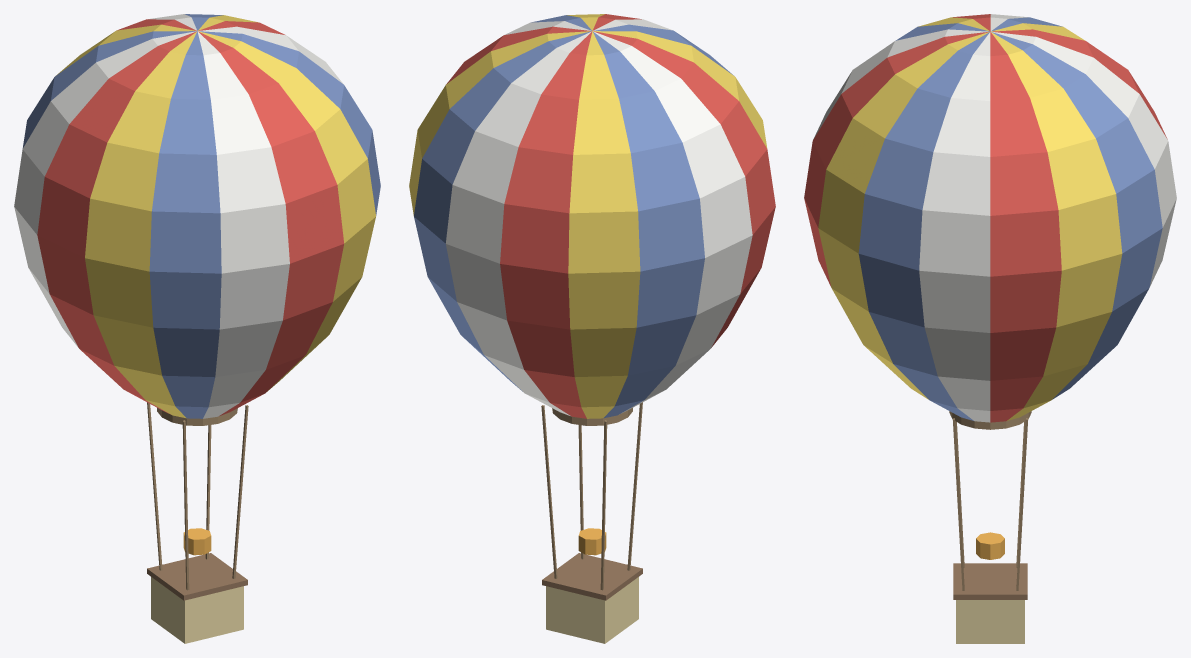
File: balloon.glb
The picture shows the model from 3 angles, left to right: view 1: azimuth 30°, elevation 25°; view 2: azimuth 150°, elevation 25°; view 3: azimuth 270°, elevation 25°; orthographic projection.
Visible parts, largest first — view 1: balloon; view 2: balloon; view 3: balloon.
Part boxes in pixels (x1,y1,x2,y2): balloon: [14, 14, 380, 643]; balloon: [409, 14, 775, 643]; balloon: [804, 14, 1176, 643].
Size of the model in its own units: 6.5 by 11.5 by 6.5.
